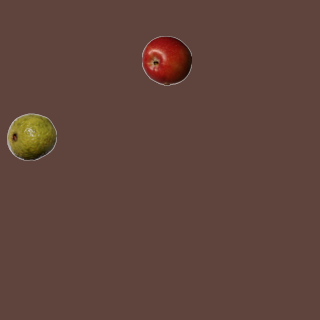Apple Braeburn: (141, 35, 191, 85)
Guava: (6, 111, 56, 161)
